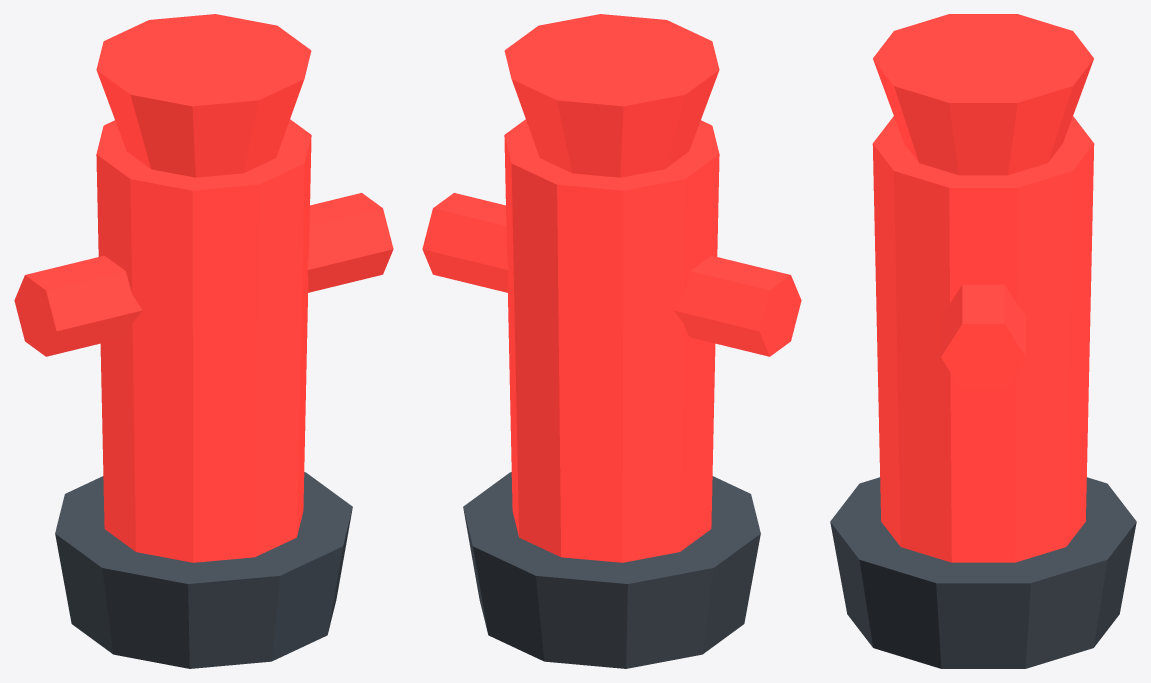
File: prop_hydrant.glb
3 renders of one model, left to right at view 1: azimuth 30°, elevation 25°; view 2: azimuth 150°, elevation 25°; view 3: azimuth 270°, elevation 25°, orthographic.
Parts seen in each view (by area): view 1: body.056, base.058, top.001, nozzle.003, nozzle.002; view 2: body.056, base.058, top.001, nozzle.003, nozzle.002; view 3: body.056, base.058, top.001, nozzle.002.
Boxes of the visible parts, <box> form: body.056: <box>96,119,311,562</box>; base.058: <box>55,472,352,668</box>; top.001: <box>96,14,311,177</box>; nozzle.003: <box>14,255,142,356</box>; nozzle.002: <box>307,193,393,292</box>; body.056: <box>504,119,719,562</box>; base.058: <box>463,472,760,668</box>; top.001: <box>504,14,719,177</box>; nozzle.003: <box>673,255,801,356</box>; nozzle.002: <box>422,193,508,292</box>; body.056: <box>872,116,1094,562</box>; base.058: <box>830,477,1136,668</box>; top.001: <box>873,14,1093,175</box>; nozzle.002: <box>941,284,1025,390</box>.
Bounding box in the file's own units: 0.46 × 0.72 × 0.36.
